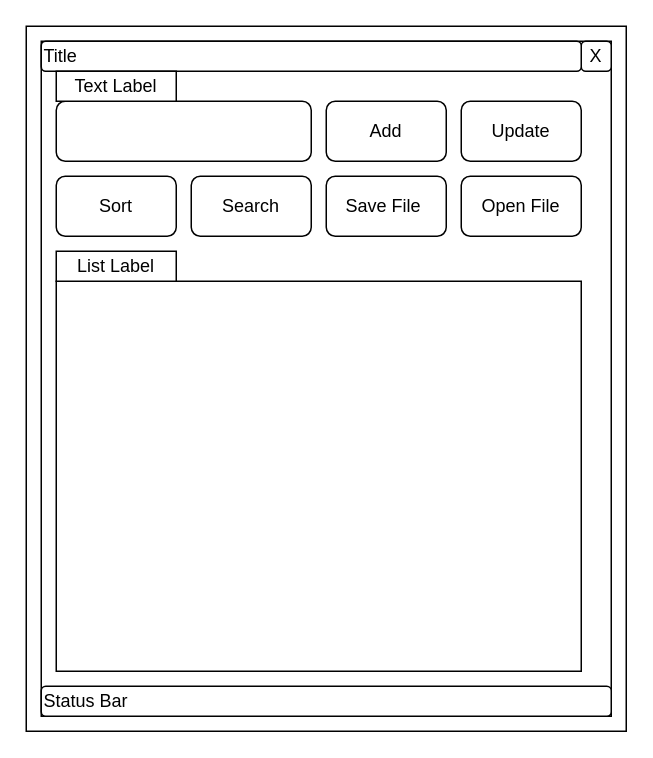
The diagram is 653 pixels wide and 758 high, and some of its shapes have lost their labels. The centre of each missing label's shape, as x and y in pixels:
"ListBox" goes at pixel 318 475.
"Text Box" goes at pixel 183 130.
